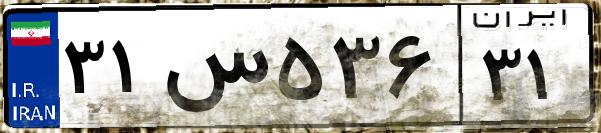1: (525, 38, 570, 115), (110, 28, 158, 98)
3: (330, 28, 385, 110), (57, 26, 110, 100), (475, 38, 525, 113)
5: (270, 28, 330, 110)
6: (385, 28, 445, 110)
س: (158, 20, 270, 120)
